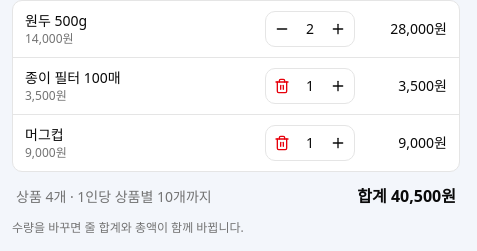
cart: changing a quantity updates the line and total; at 1 the minus removes the item
Expected: the text "합계 40,500원" is shown, [357,184,456,208]
Click the button named "원두 500g 늘리기": (338, 29) [324,15,352,43]
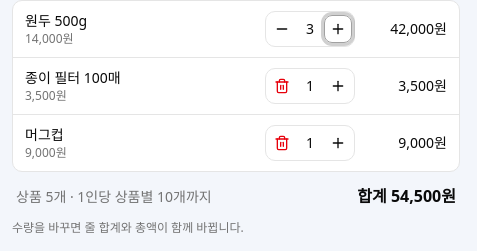
Expected: the text with test id "line-beans" reads "42,000원", [390,19,447,38]
Expected: the text "합계 54,500원" is shown, [357,184,456,208]
Click the button named "머그컵 빼기": (282, 143) [268,129,296,157]
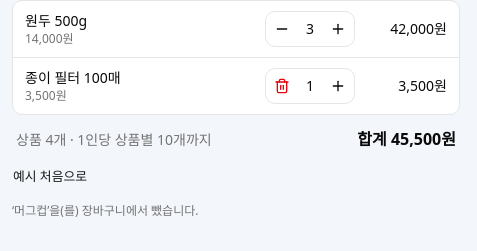
Expected: the message reads "‘머그컵’을(를) 장바구니에서 뺐습니다.", [12,202,198,219]
Expected: the text "합계 45,500원" is shown, [357,127,456,151]
Click the button "예시 처음으로": (50, 177) [12,163,88,191]
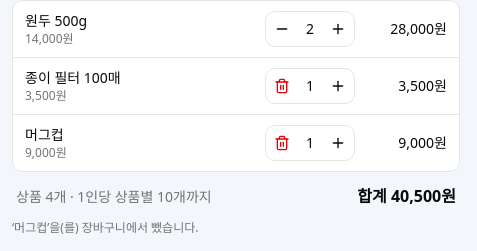
Expected: the number field named "머그컵" is shown, [298,133,322,153]
